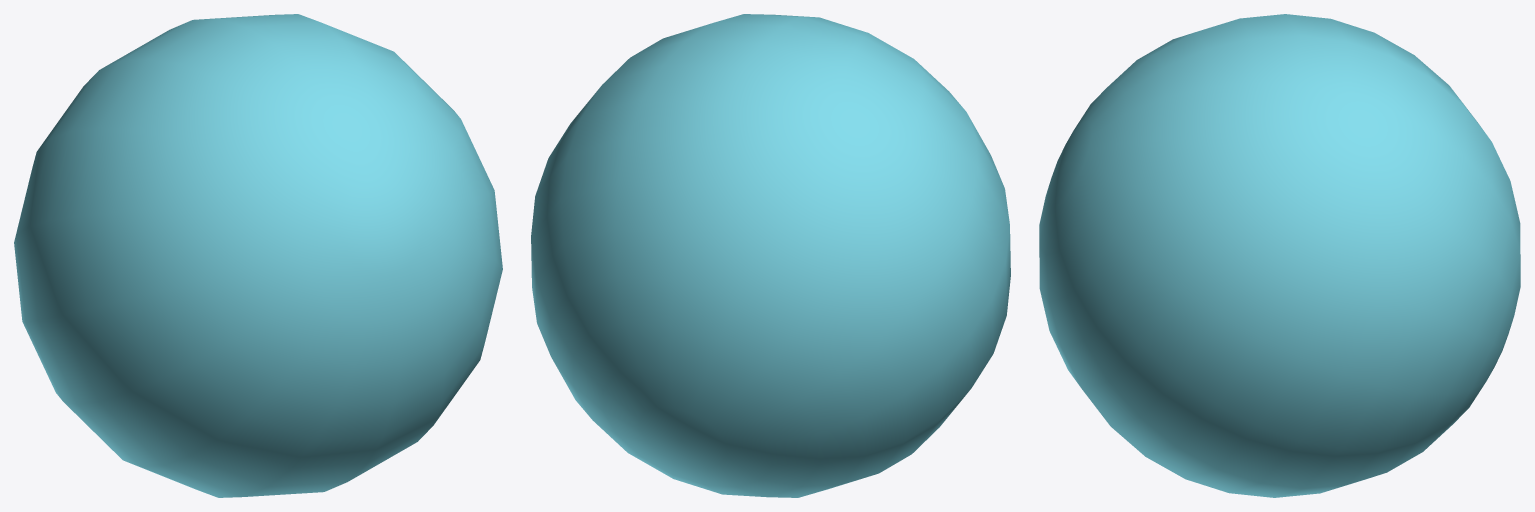
3 renders of one model, left to right at view 1: azimuth 30°, elevation 25°; view 2: azimuth 150°, elevation 25°; view 3: azimuth 270°, elevation 25°, orthographic.
Visible parts, largest first — view 1: orb3.011; view 2: orb3.011; view 3: orb3.011.
Part boxes in pixels (x1,y1,x2,y2): orb3.011: (14, 14, 502, 497); orb3.011: (531, 14, 1010, 497); orb3.011: (1039, 14, 1520, 497).
Size of the model in its own units: 0.3982 by 0.3984 by 0.3968.
